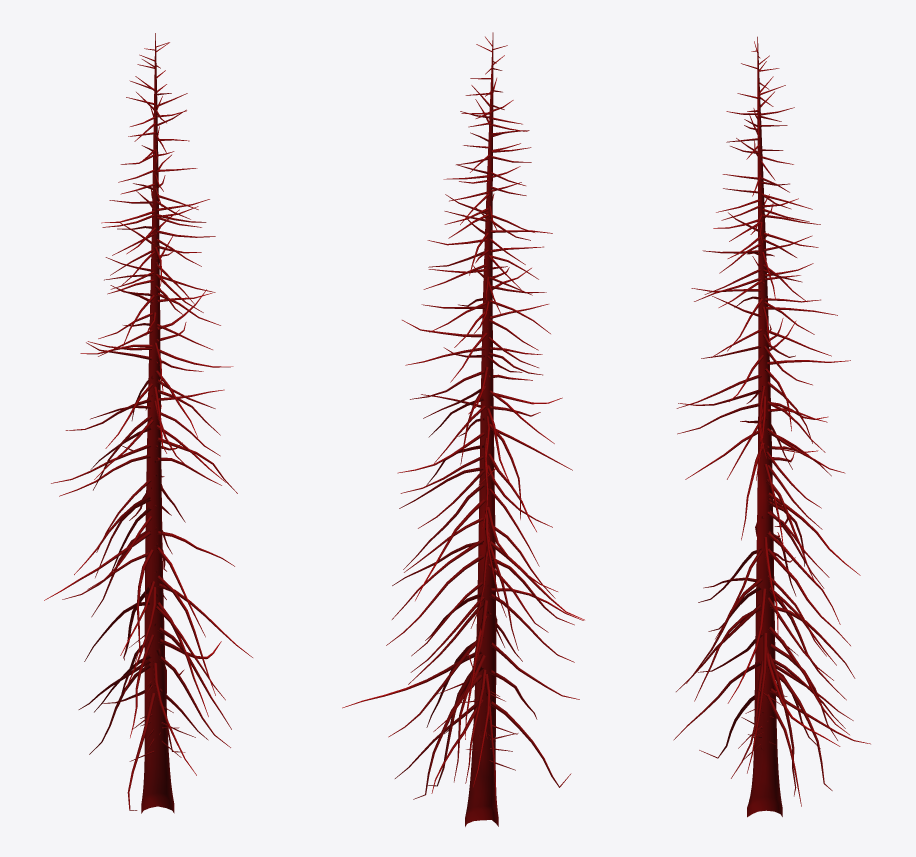
File: pine_c_lod0.glb
3 views of the same model, side by side, from view 1: azimuth 30°, elevation 25°; view 2: azimuth 150°, elevation 25°; view 3: azimuth 270°, elevation 25° (orthographic). The views are drawn at different scales.
Parts seen in each view (by area): view 1: pine_c_LOD0; view 2: pine_c_LOD0; view 3: pine_c_LOD0.
Part boxes in pixels (box(x1,y1,x2,y2)): pine_c_LOD0: box(44, 33, 252, 813); pine_c_LOD0: box(342, 32, 584, 826); pine_c_LOD0: box(673, 36, 870, 817).
Size of the model in its own units: 6.97 by 20.7 by 6.05.
